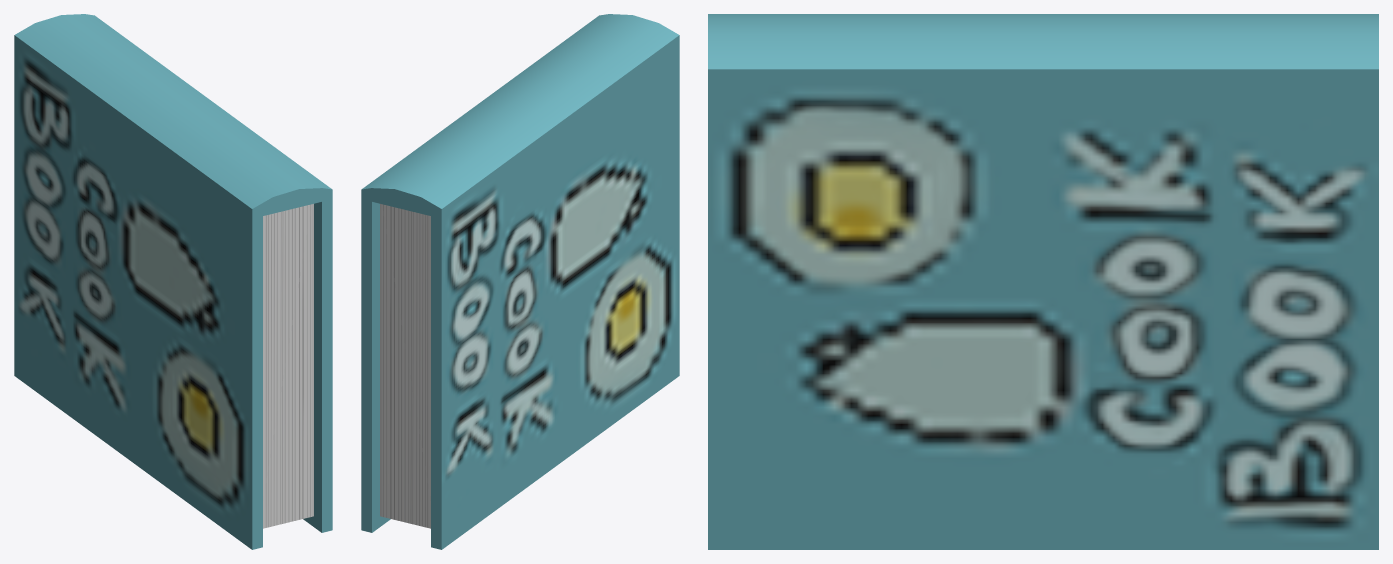
File: book.fbx
3 renders of one model, left to right at view 1: azimuth 30°, elevation 25°; view 2: azimuth 150°, elevation 25°; view 3: azimuth 270°, elevation 25°, orthographic. The views are drawn at different scales.
Parts seen in each view (by area): view 1: book; view 2: book; view 3: book.
Part boxes in pixels (x1=…): book: x1=14, y1=14, x2=332, y2=549; book: x1=361, y1=14, x2=679, y2=549; book: x1=708, y1=14, x2=1378, y2=549.
Size of the model in its own units: 1.78 by 9.14 by 7.41.
Materials: 1 (1 with a texture image).
